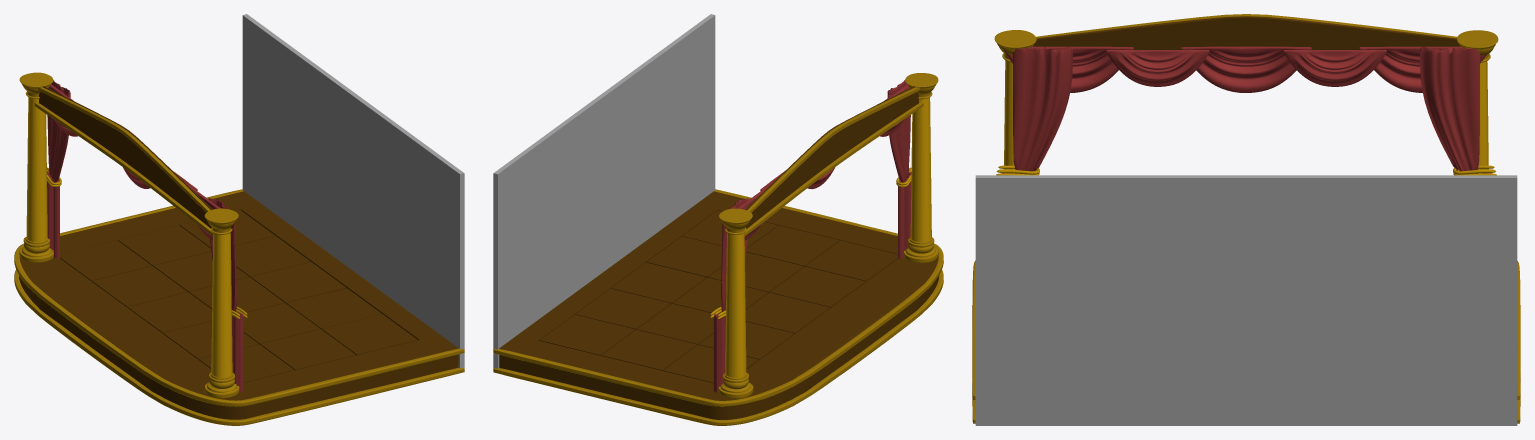
Rendered from Stage.fbx.
3 views of the same model, side by side, from view 1: azimuth 30°, elevation 25°; view 2: azimuth 150°, elevation 25°; view 3: azimuth 270°, elevation 25° (orthographic). The views are drawn at different scales.
Visible parts, largest first — view 1: Stage_Back, Stage_Wood, Stage_Gold, Stage_Columns, Stage_Curtains, Plat_Back_3, Plat_Mid_5, Plat_Front_2, Plat_Back_5, Plat_Mid_1, Plat_Back_4, Plat_Front_1 (+8 smaller); view 2: Stage_Back, Stage_Wood, Stage_Gold, Stage_Columns, Stage_Curtains, Plat_Back_1, Plat_Mid_1, Plat_Back_3, Plat_Back_2, Plat_Front_4, Plat_Mid_5, Plat_Front_5 (+8 smaller); view 3: Stage_Back, Stage_Curtains, Stage_Wood, Stage_Gold, Stage_Columns, Stage_Rope.
Boxes of the visible parts, x1,y1,x2,y2 form: Stage_Back: (242,14,464,372); Stage_Wood: (19,86,458,419); Stage_Gold: (14,72,464,425); Stage_Columns: (26,97,232,377); Stage_Curtains: (47,80,243,392); Plat_Back_3: (251,262,346,303); Plat_Mid_5: (260,329,355,370); Plat_Front_2: (92,266,187,307); Plat_Back_5: (322,314,417,355); Plat_Mid_1: (118,225,211,266); Plat_Back_4: (286,288,381,329); Plat_Front_1: (60,240,151,281); Stage_Back: (493,14,715,372); Stage_Wood: (499,86,939,419); Stage_Gold: (493,73,943,425); Stage_Columns: (725,97,931,378); Stage_Curtains: (713,80,911,392); Plat_Back_1: (539,314,635,355); Plat_Mid_1: (601,329,697,370); Plat_Back_3: (611,262,706,303); Plat_Back_2: (575,288,670,329); Plat_Front_4: (770,266,865,307); Plat_Mid_5: (746,225,839,266); Plat_Front_5: (805,240,897,281); Stage_Back: (975,175,1517,425); Stage_Curtains: (1002,46,1491,174); Stage_Wood: (1033,16,1460,49); Stage_Gold: (972,14,1520,423); Stage_Columns: (1004,60,1488,165); Stage_Rope: (996,165,1496,175).
Size of the model in its own units: 7.45 by 5.86 by 10.74.
